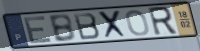B: (47, 13, 77, 43), (72, 12, 102, 41)
E: (23, 15, 54, 45)
O: (125, 9, 151, 37)
R: (146, 5, 179, 38)
X: (96, 9, 129, 40)
